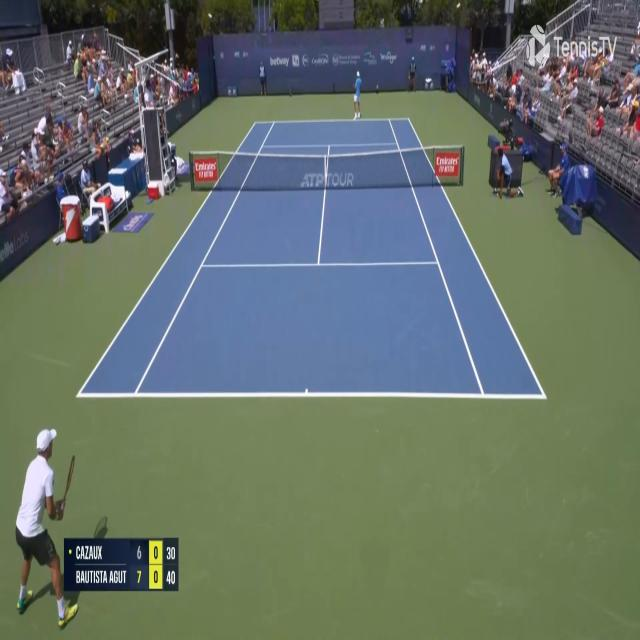tennis-player: (8, 422, 81, 627), (352, 68, 363, 122)
